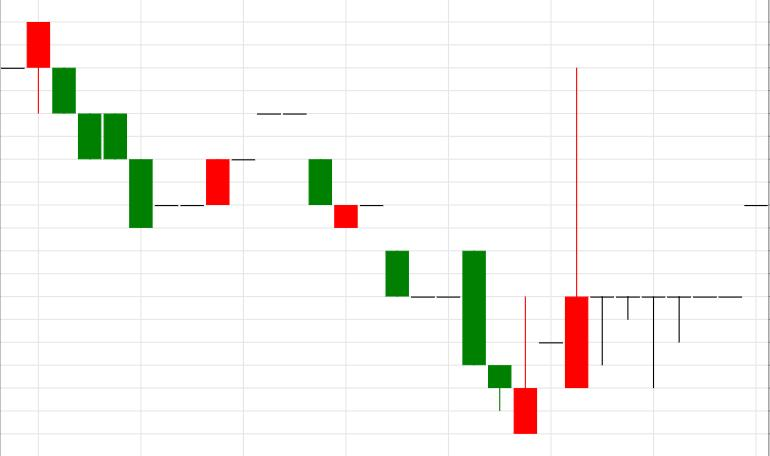inverse_hammer_rise: (309, 160, 537, 433)
